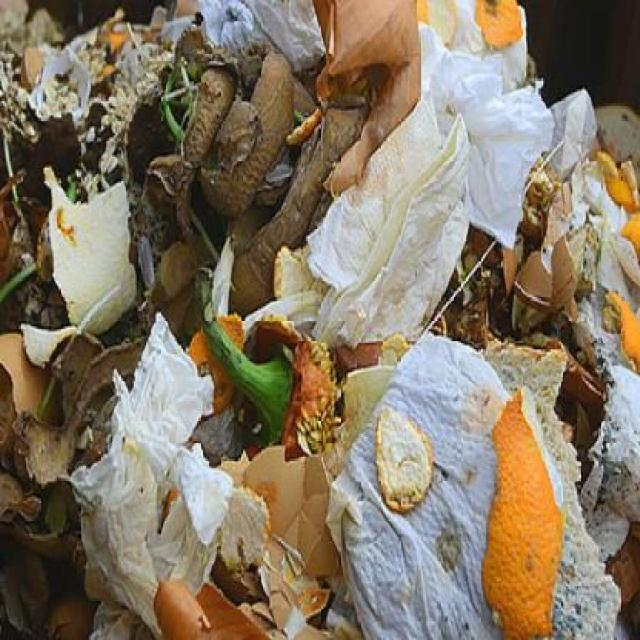garbage: (16, 22, 615, 610)
